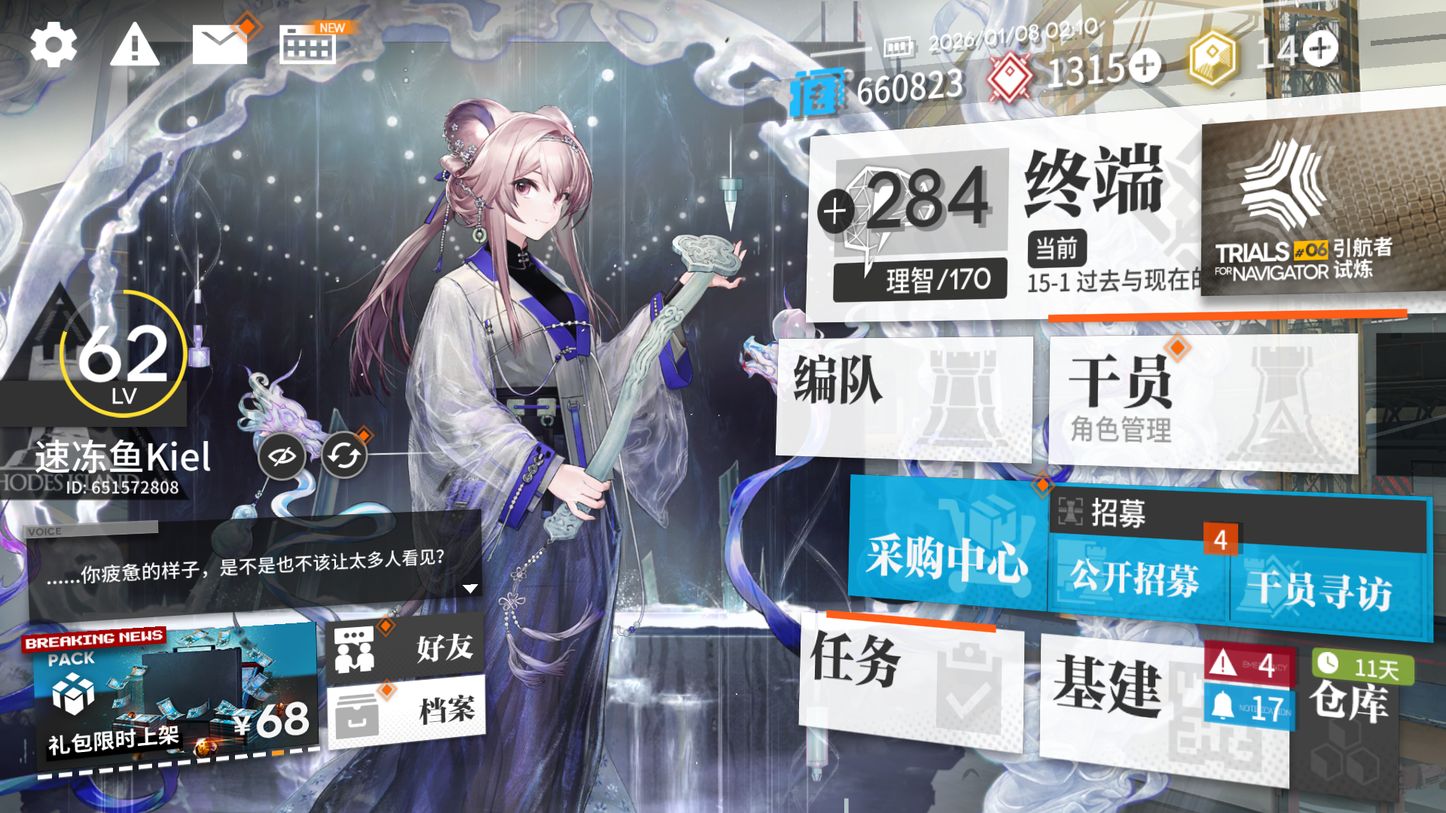home_button: (1014, 126, 1176, 238)
infrastructure_button: (1045, 638, 1273, 773)
